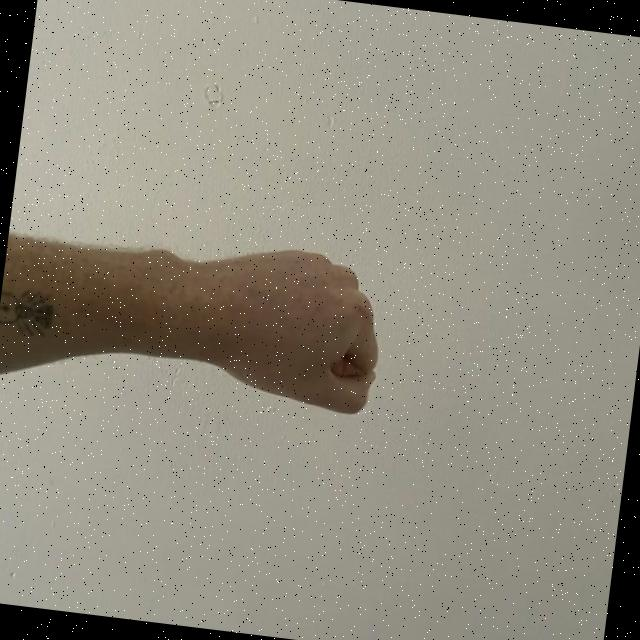rock: (133, 228, 398, 421)
